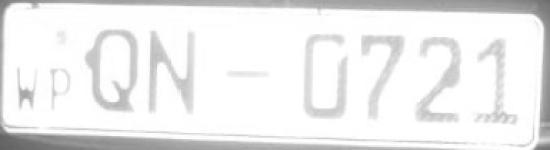-: (219, 63, 274, 84)
0: (298, 26, 352, 122)
1: (474, 32, 527, 135)
2: (410, 29, 471, 132)
7: (352, 29, 409, 131)
N: (144, 27, 202, 122)
P: (45, 65, 74, 112)
Q: (86, 25, 142, 117)
W: (12, 62, 42, 116)
